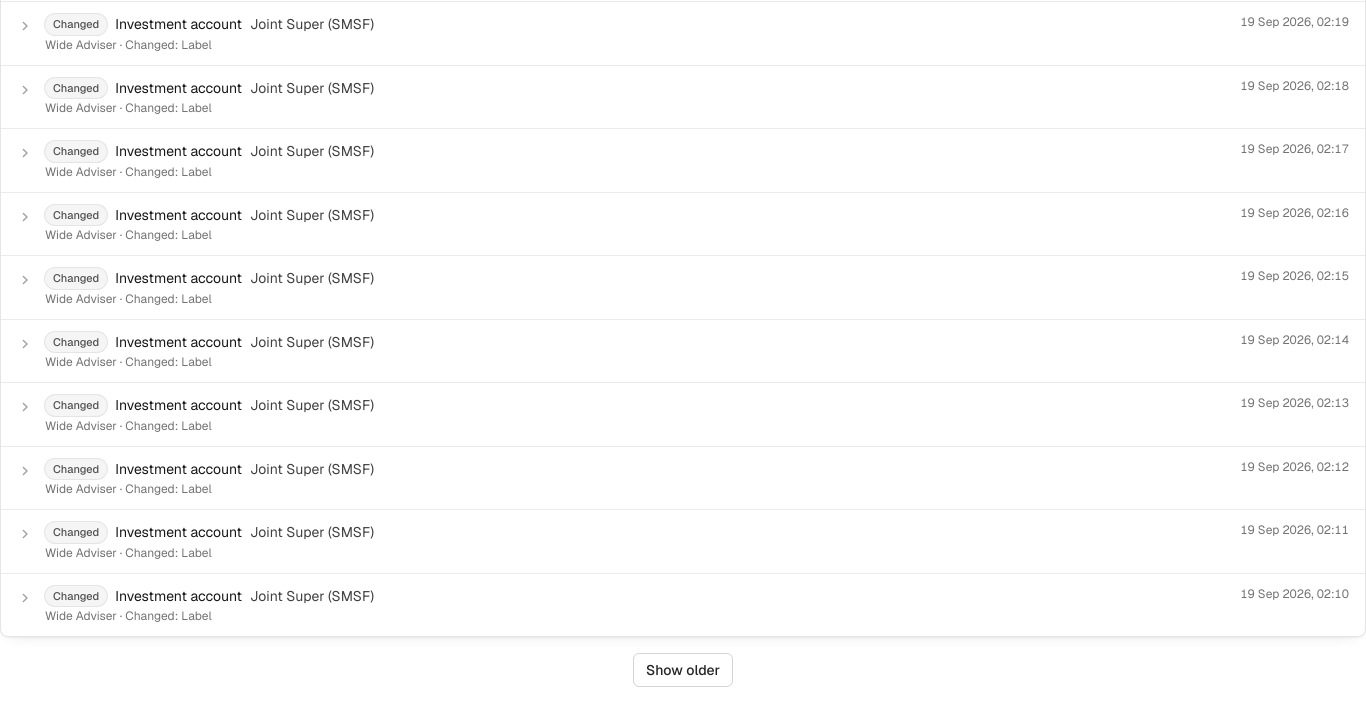
paging and filters › and asks for the next page from where this one ended, with both cursor keys
(page scrolled)
Click the button "Show older": (683, 670) x1=633 y1=653 x2=733 y2=687
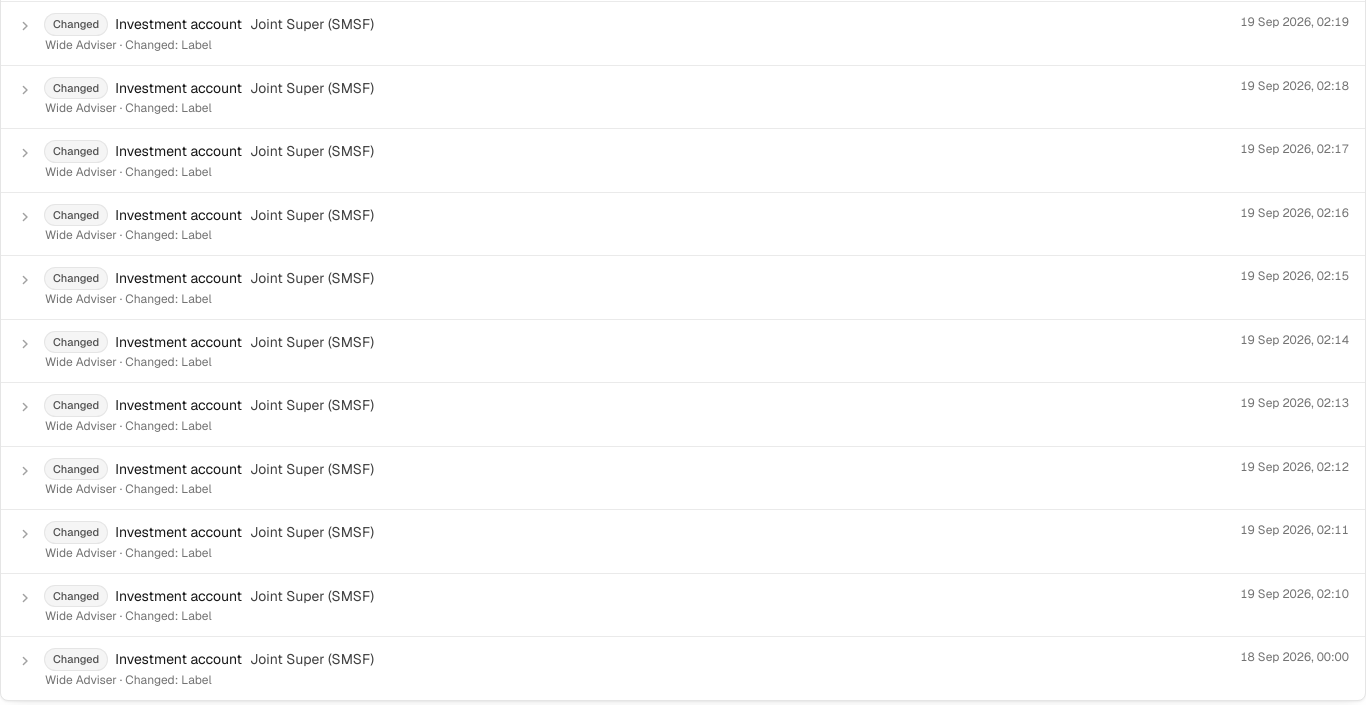
Now the button "Show older" is gone
